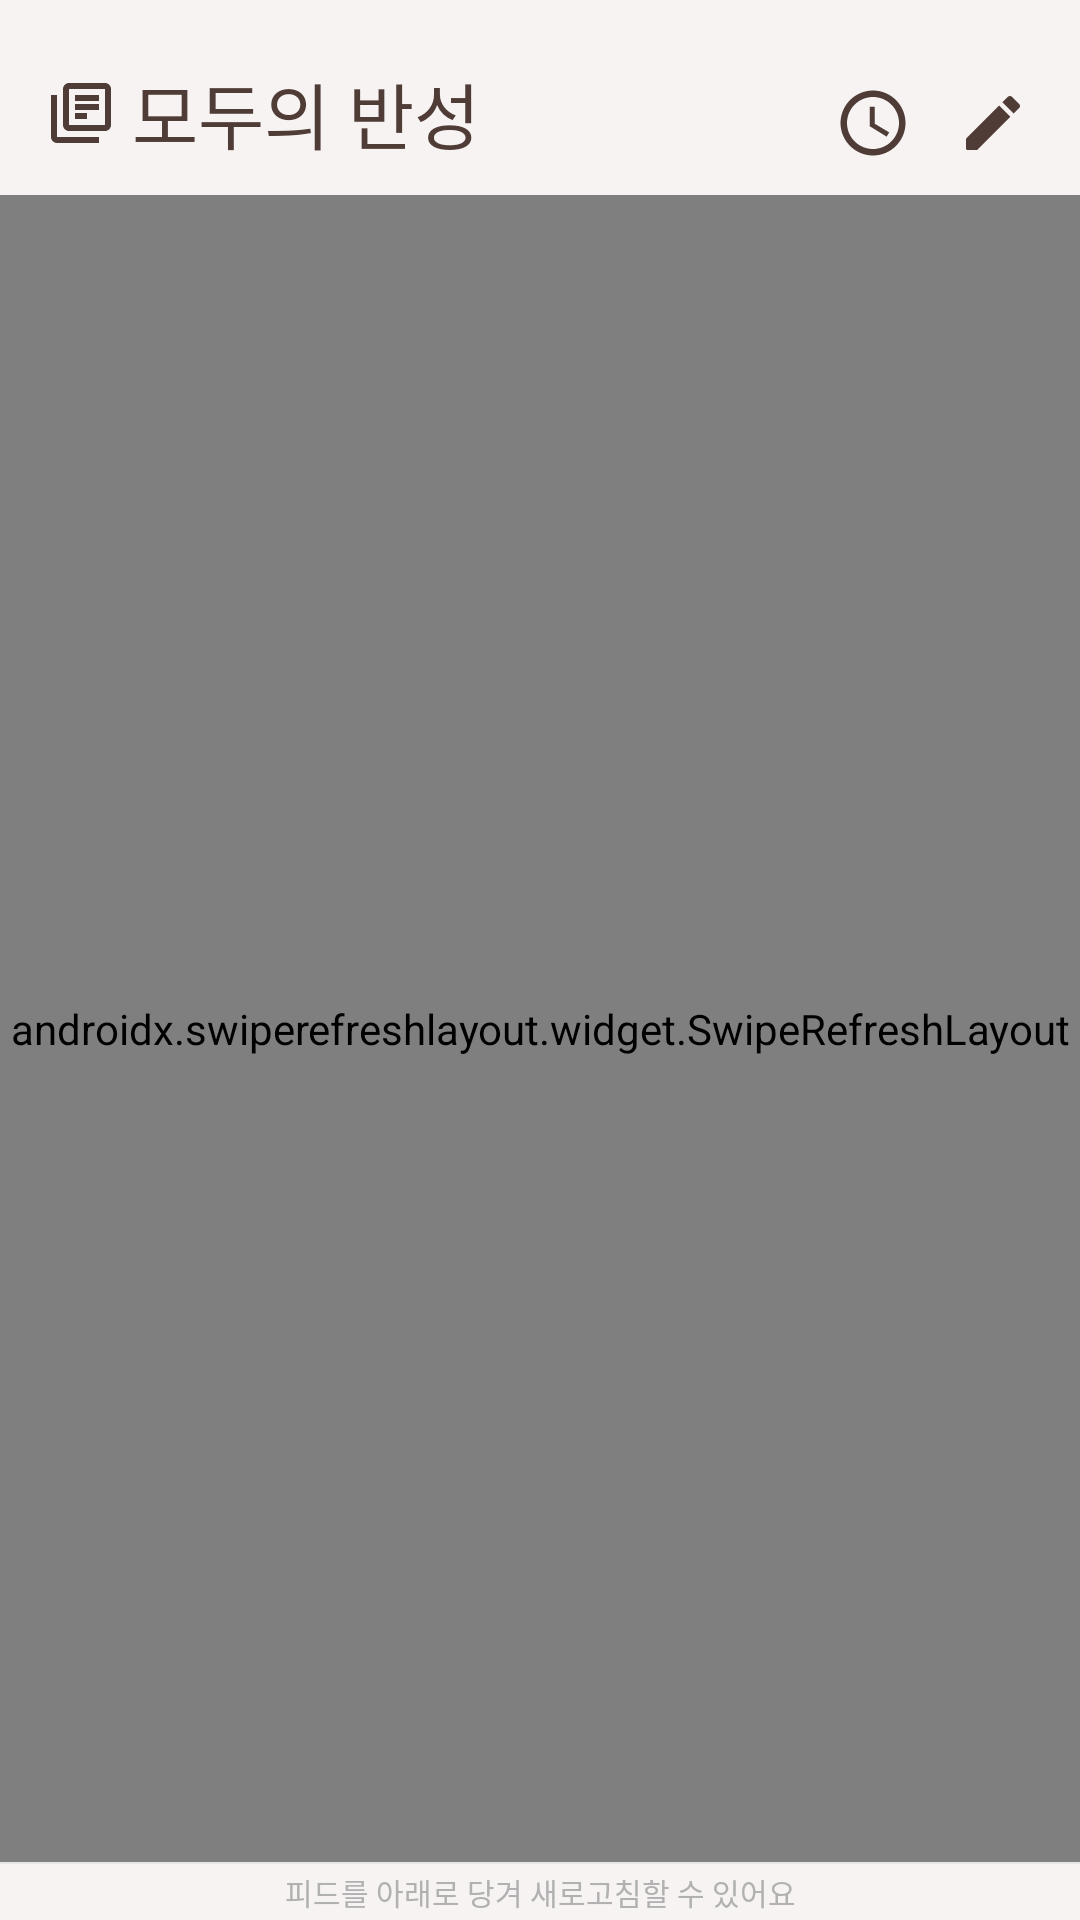

Icon click points for this 1080w x 1920h phone screenshot, format point (x, y):
allplate: point (81, 113)
allplatefragment gettimelist: point (873, 123)
allplatefragment writeplate: point (993, 123)
